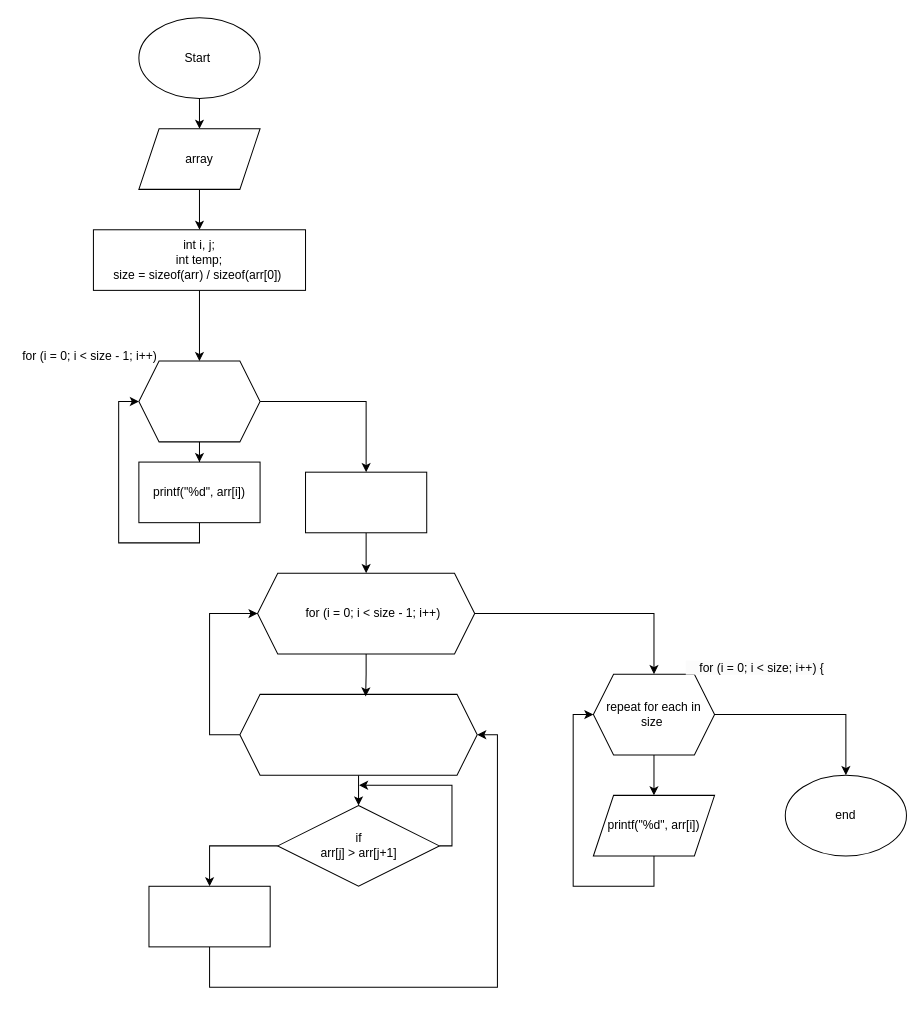
Some shapes in this 924 by 1013 pixel diagram are drawn without their labels. Each missing label, with the centre of its shape:
for (j = 0; j < size - 1 - i; j++): pixel 358 734
printf("\n"): pixel 366 502
repeat size times: pixel 199 401
temp = arr [j] arr[j] = arr[j + 1] arr[j + 1] = temp: pixel 209 916
